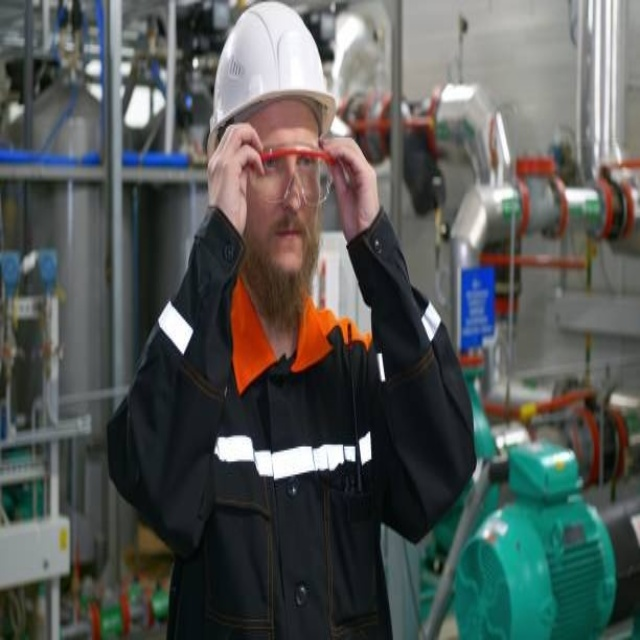Gafas: (247, 138, 334, 212)
Sin_guantes: (203, 117, 264, 233), (323, 128, 380, 244)
Sin_mascara: (270, 218, 306, 266)
